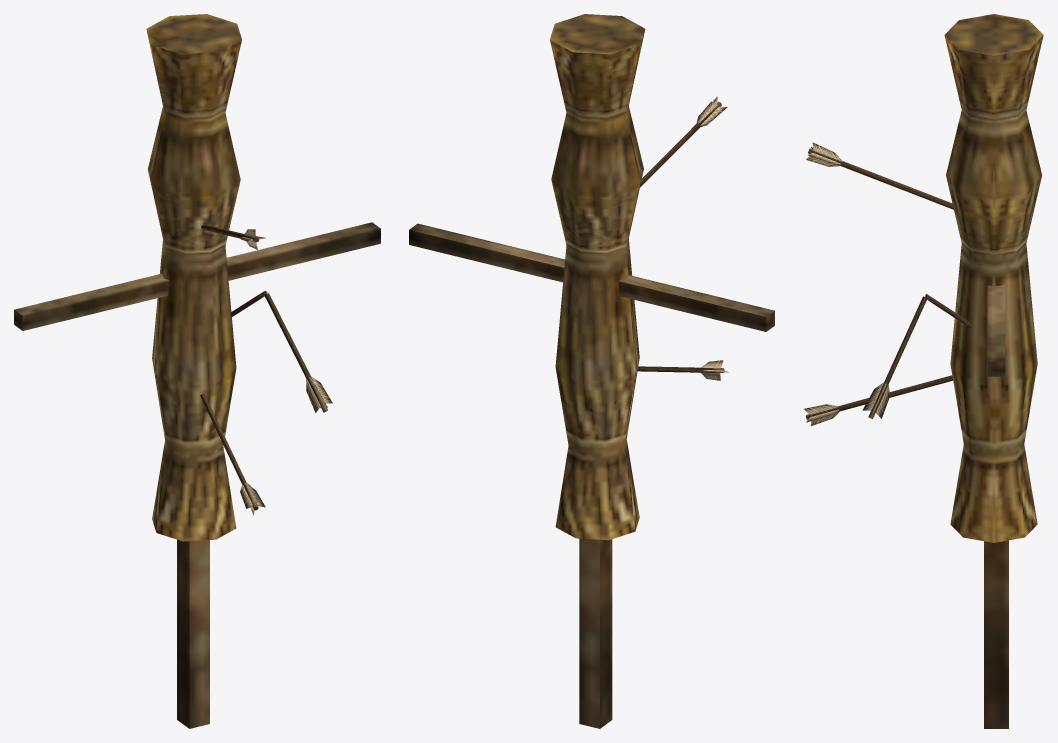
File: general_obj_target 02.glb
3 views of the same model, side by side, from view 1: azimuth 30°, elevation 25°; view 2: azimuth 150°, elevation 25°; view 3: azimuth 270°, elevation 25° (orthographic).
Visible parts, largest first — view 1: Mesh01; view 2: Mesh01; view 3: Mesh01.
Boxes of the visible parts, <box> form: Mesh01: <box>14,14,380,728</box>; Mesh01: <box>409,14,774,728</box>; Mesh01: <box>804,14,1043,728</box>.
Bounding box in the file's own units: 1.43 × 2.63 × 0.8301.
Materials: 2 (2 with a texture image).
